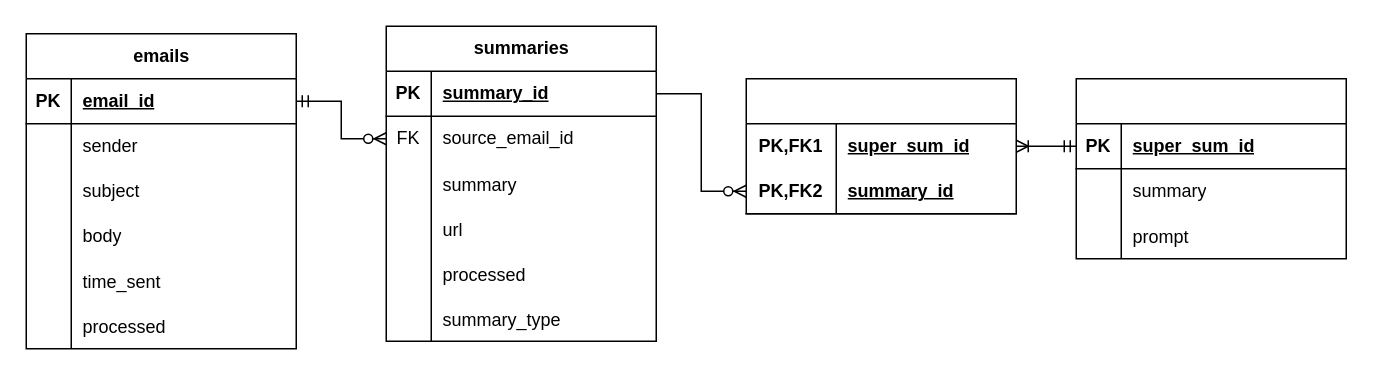
Image size: 1373x375. Some labels were removed from this diagram. Each missing label, with the box of its shape:
summaries_used: (745, 77, 1016, 214)
super_summaries: (1075, 77, 1346, 259)
